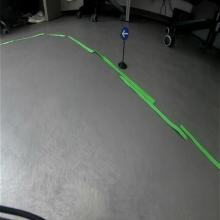left: (121, 26, 129, 40)
